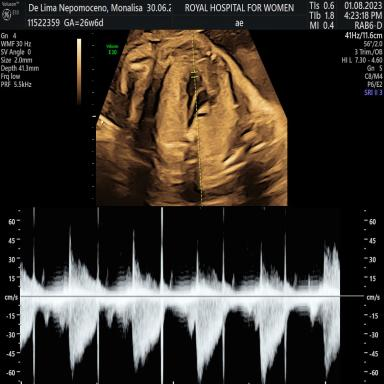Ultrasound-Waves: (25, 209, 339, 384)
